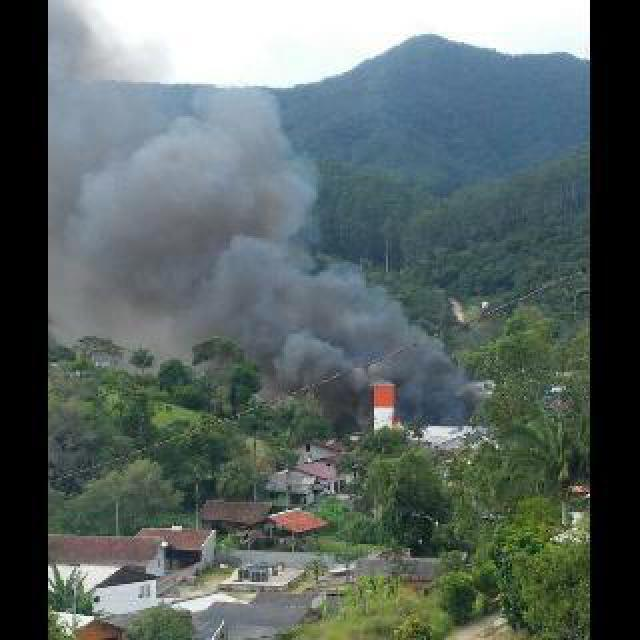Fire: (398, 414, 408, 428)
Smoke: (50, 4, 312, 356), (206, 244, 462, 392)
